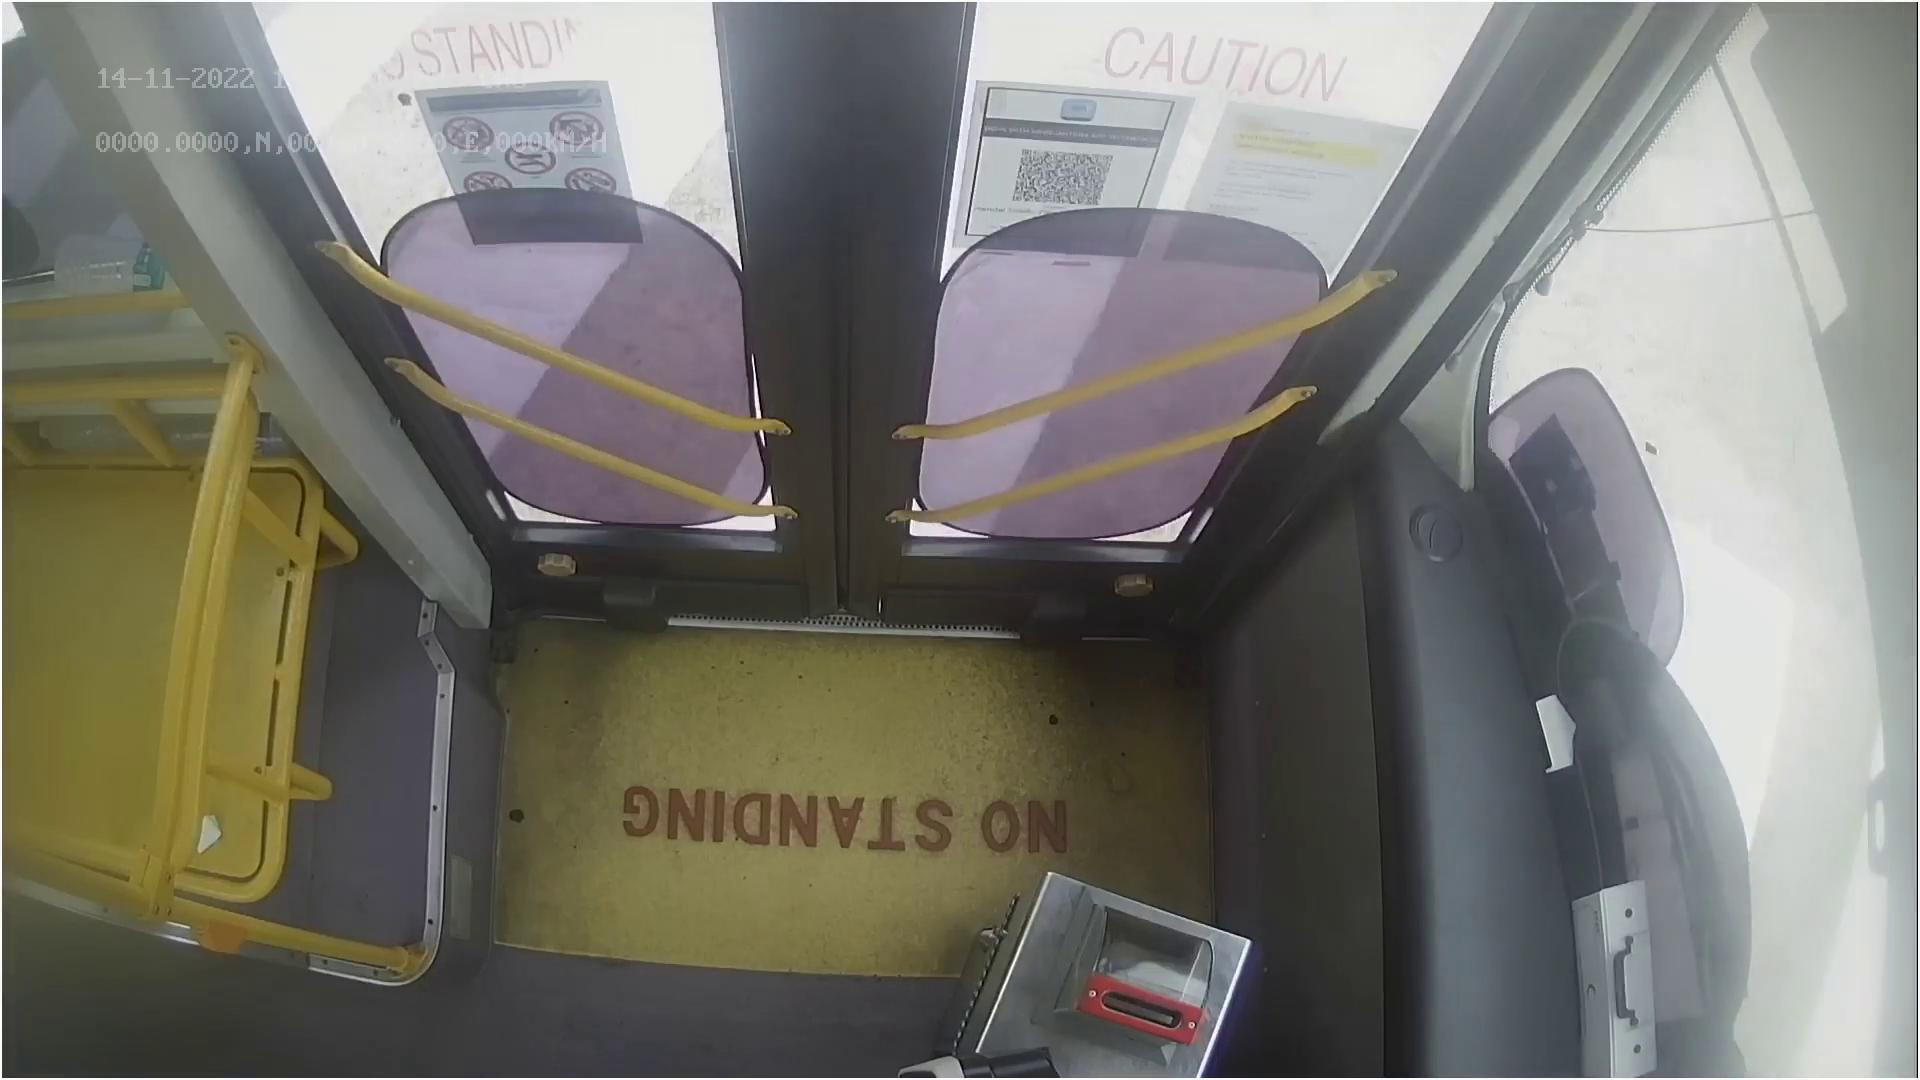close: (285, 0, 1445, 158)
